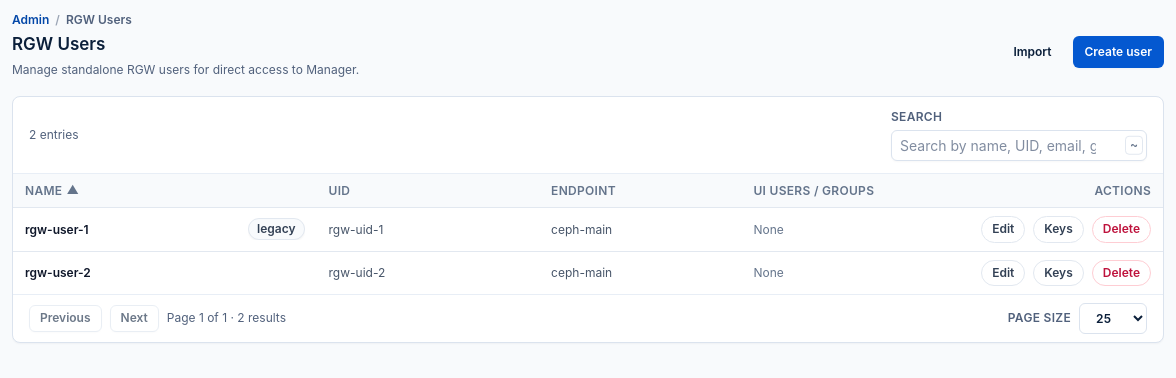
Test: S3UsersPage modal tabs › keeps tagged users visible with exact quick filter mode
Check: the text "rgw-user-1" is shown, box [25,222,89,236]
Check: the text "rgw-user-2" is shown, box [25,265,91,280]
Step 1. Click the button named "Toggle filter match mode" → (1134, 145), box [1125,136,1143,154]
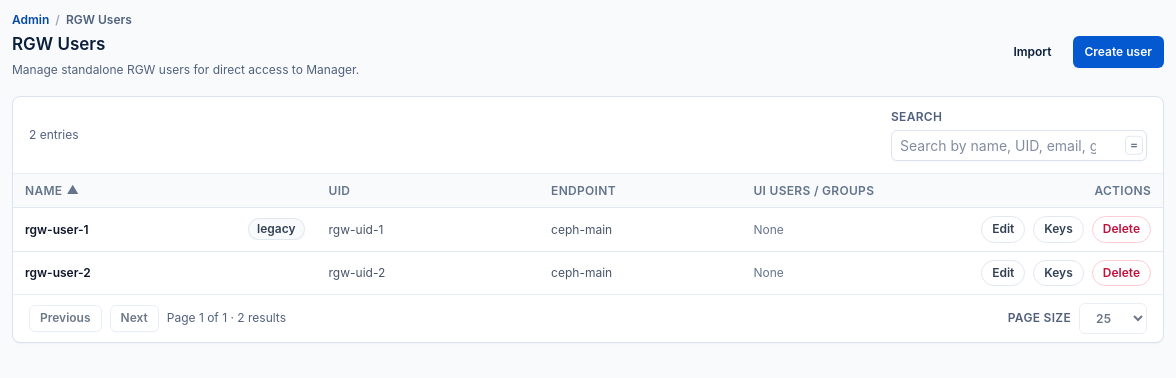
Step 2. Type "legacy" into the search field labelled "Search" → (1019, 145), box [891,130,1147,160]
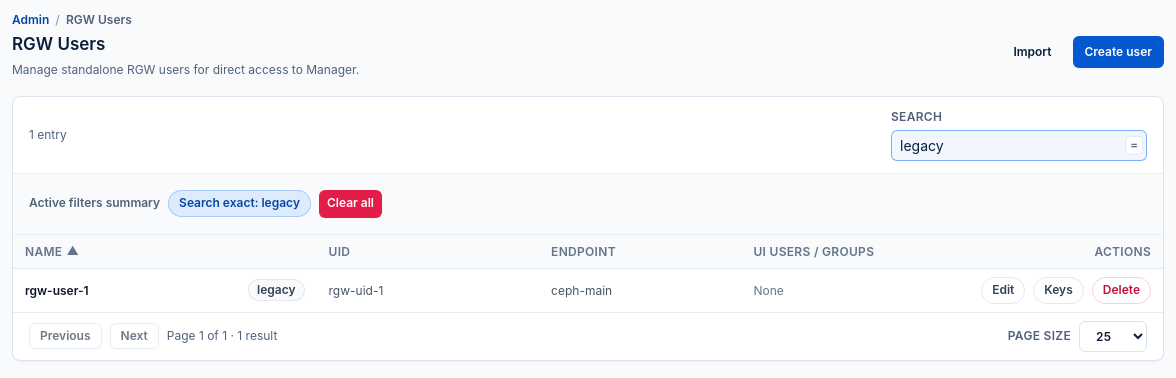
Check: the text "rgw-user-1" is shown, box [25,282,89,298]
Check: the text "rgw-user-2" is gone
